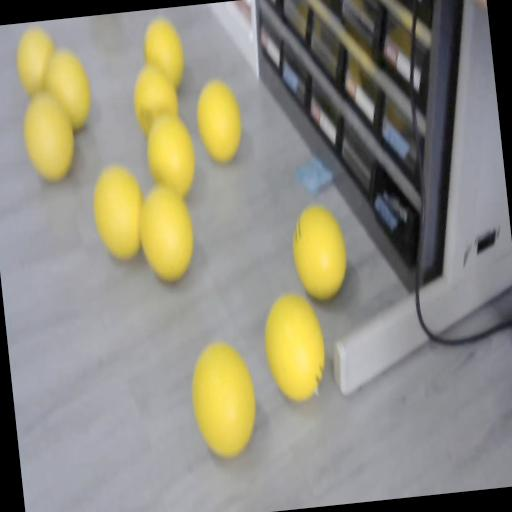FUEL: (186, 337, 262, 460), (258, 290, 330, 404), (134, 181, 199, 284), (88, 160, 150, 262), (288, 201, 350, 302), (142, 112, 200, 200), (41, 46, 97, 135), (192, 76, 246, 164), (140, 15, 188, 90)
